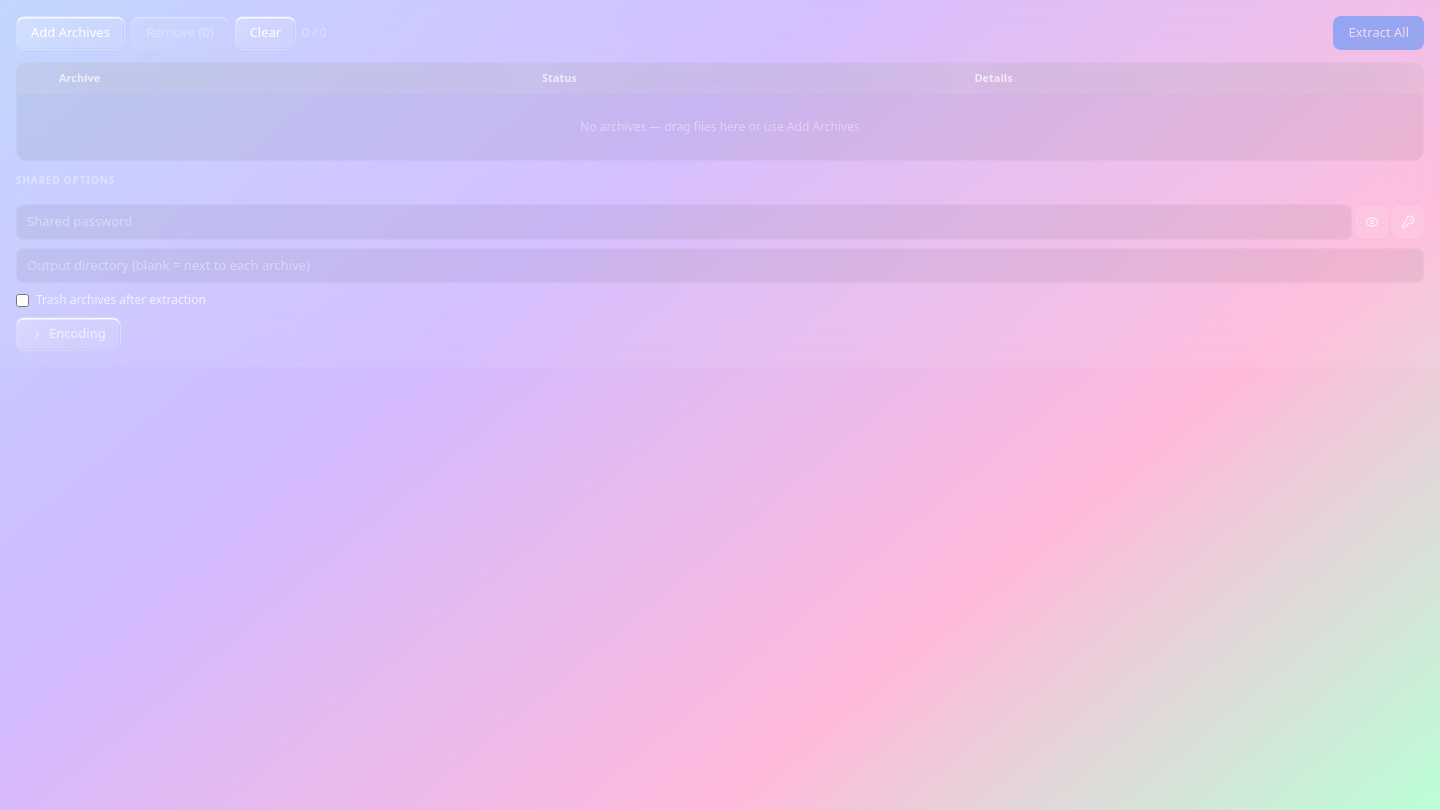
Scenario: BatchPanel › adds archives from dialog to the table
The image size is (1440, 810).
Click the button "Add Archives" at (70,33), box [16,16,125,50]
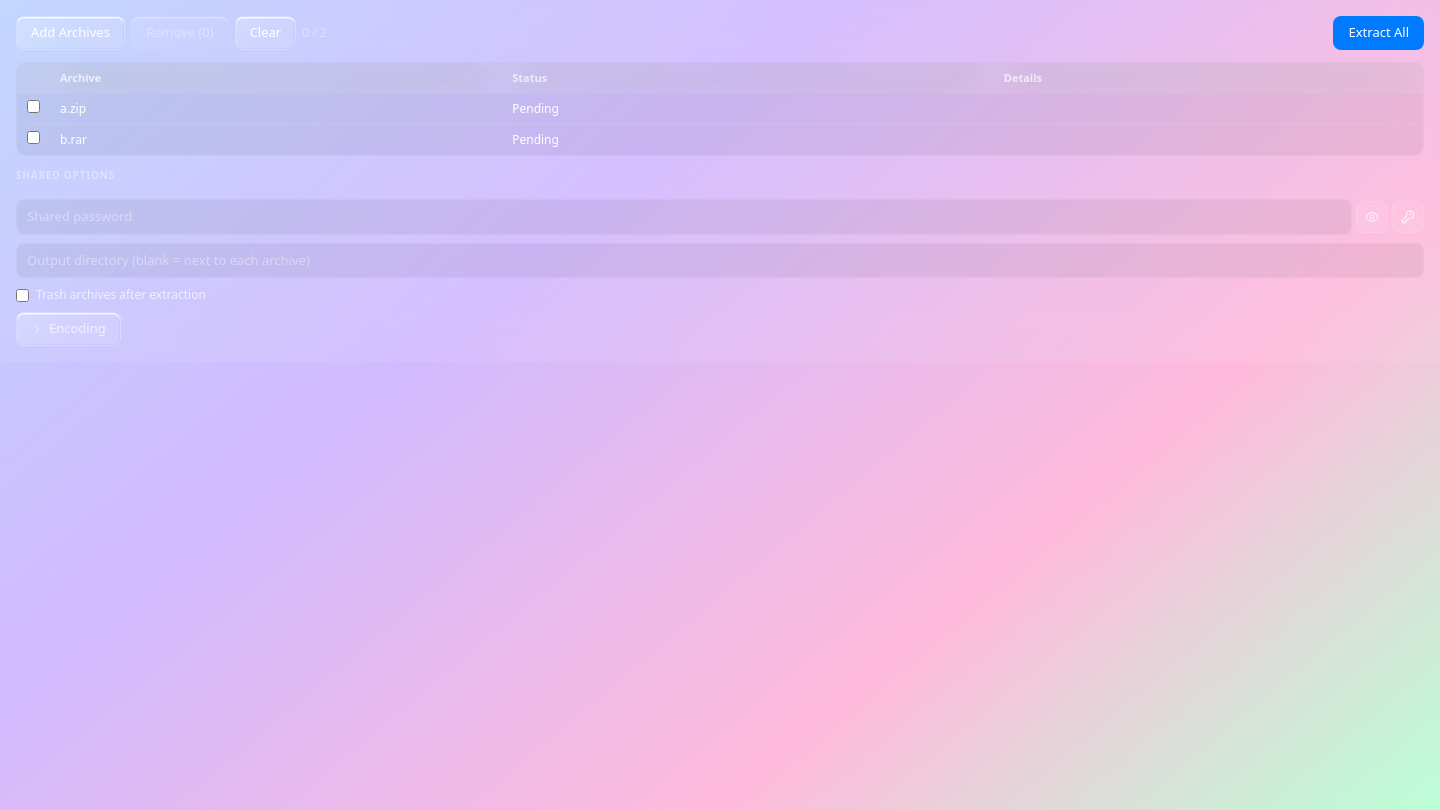
Check: the text "a.zip" is shown, box [50,94,502,124]
Check: the text "b.rar" is shown, box [50,124,502,155]
